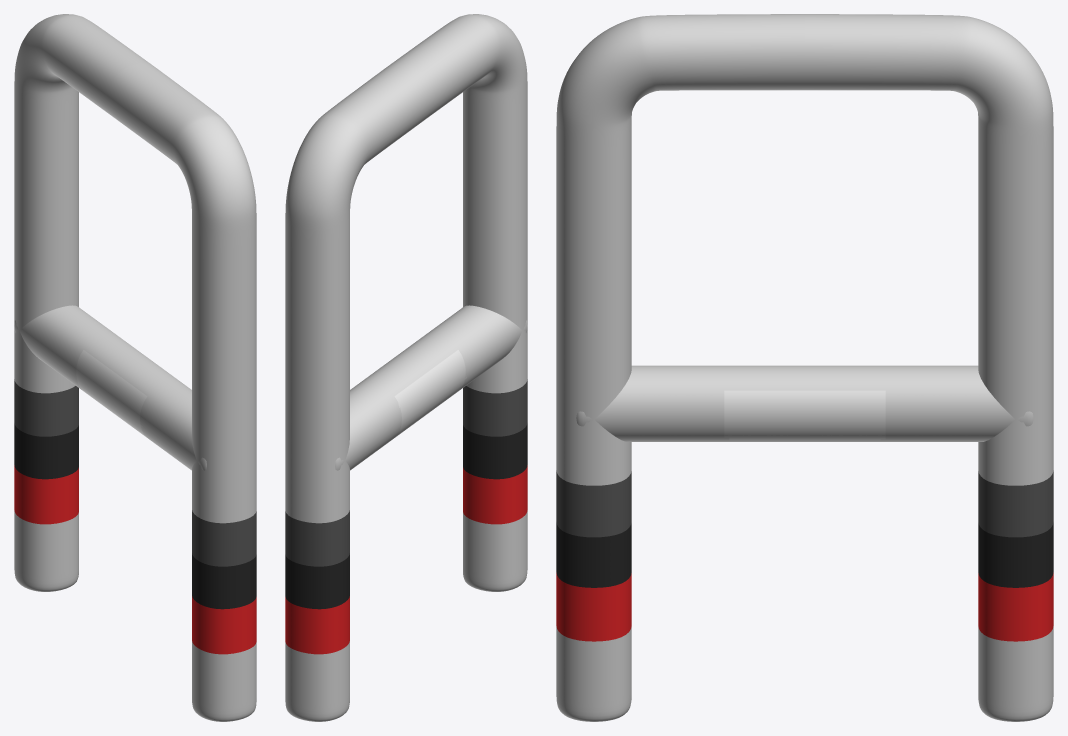
Rendered from double_pneumatic_gate2.fbx.
3 renders of one model, left to right at view 1: azimuth 30°, elevation 25°; view 2: azimuth 150°, elevation 25°; view 3: azimuth 270°, elevation 25°, orthographic. The views are drawn at different scales.
Visible parts, largest first — view 1: gate; view 2: gate; view 3: gate.
Part boxes in pixels (x1,y1,x2,y2): gate: (14, 14, 256, 721); gate: (285, 14, 527, 721); gate: (556, 14, 1053, 721).
Bounding box in the file's own units: 214 × 2172 × 1414.
